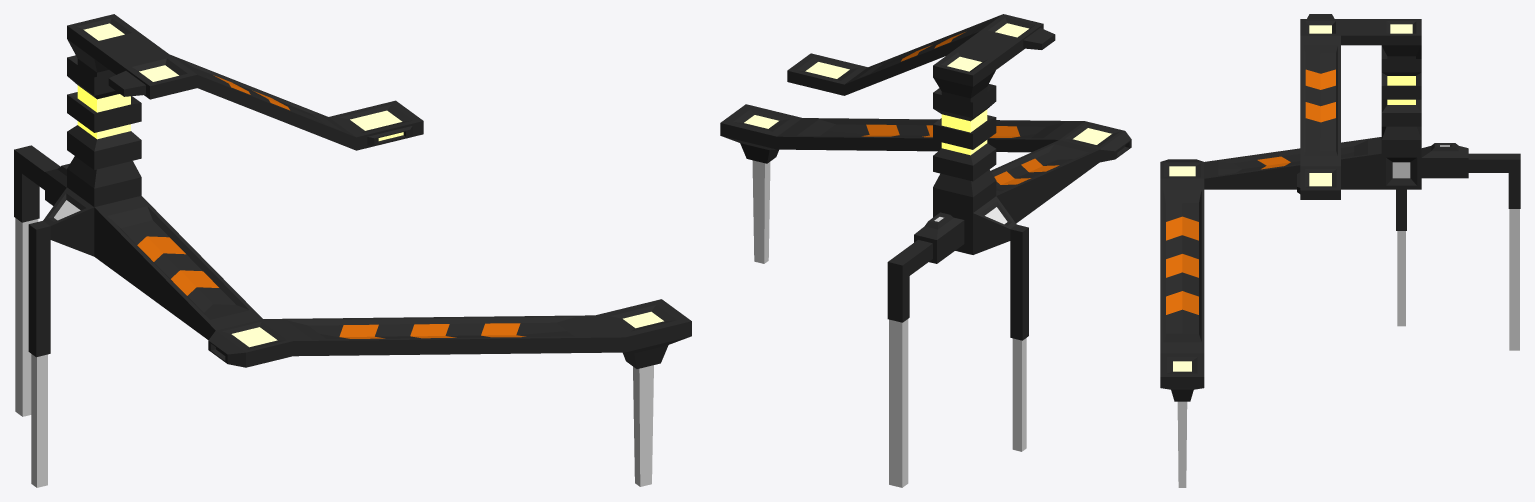
File: Base_rocket.fbx
3 views of the same model, side by side, from view 1: azimuth 30°, elevation 25°; view 2: azimuth 150°, elevation 25°; view 3: azimuth 270°, elevation 25° (orthographic). The views are drawn at different scales.
Visible parts, largest first — view 1: Cube; view 2: Cube; view 3: Cube.
Part boxes in pixels (left/top/right/bottom): Cube: left=14, top=14, right=691, bottom=487; Cube: left=720, top=14, right=1131, bottom=487; Cube: left=1160, top=14, right=1520, bottom=487.
Size of the model in its own units: 683 by 580 by 590.
